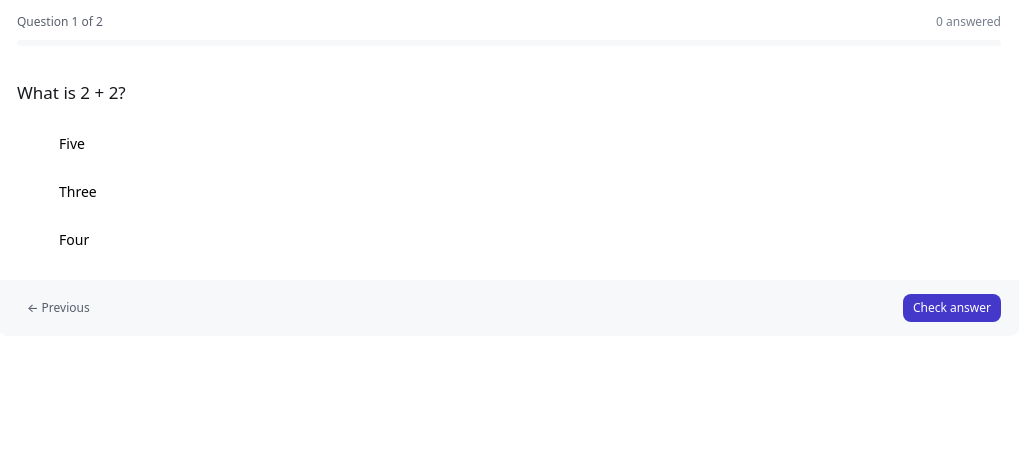
Scenario: Quiz — recall questions › hides the key points and model answer until the learner has written something
Note: Move to question two.
Click the radio button labelled "Four": (74, 239) top-left (17, 220), bottom-right (1001, 260)
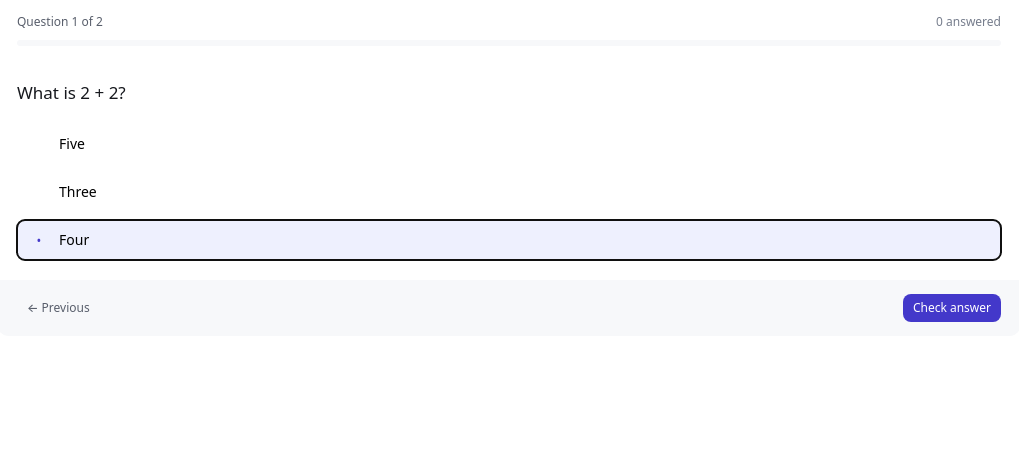
Click the button "Check answer": (952, 308) top-left (903, 294), bottom-right (1001, 322)
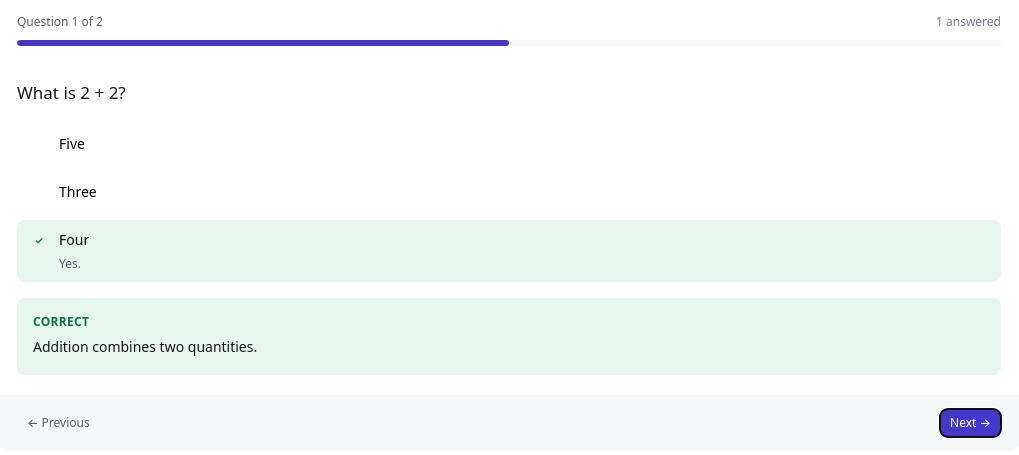
Click the button "Next →": (971, 422) top-left (940, 408), bottom-right (1001, 436)
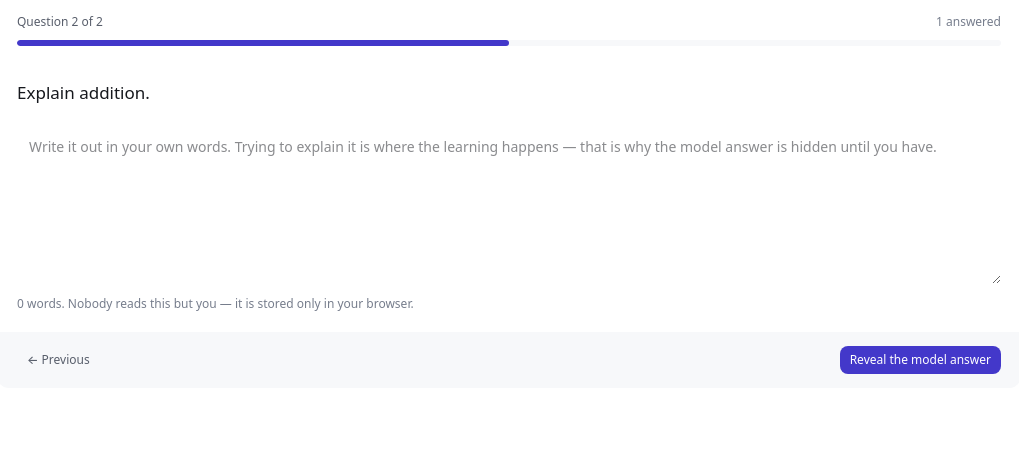
Result: the text "Explain addition." is shown at top-left (17, 81), bottom-right (150, 104)
Result: the button "Reveal the model answer" is disabled at top-left (840, 346), bottom-right (1001, 374)
